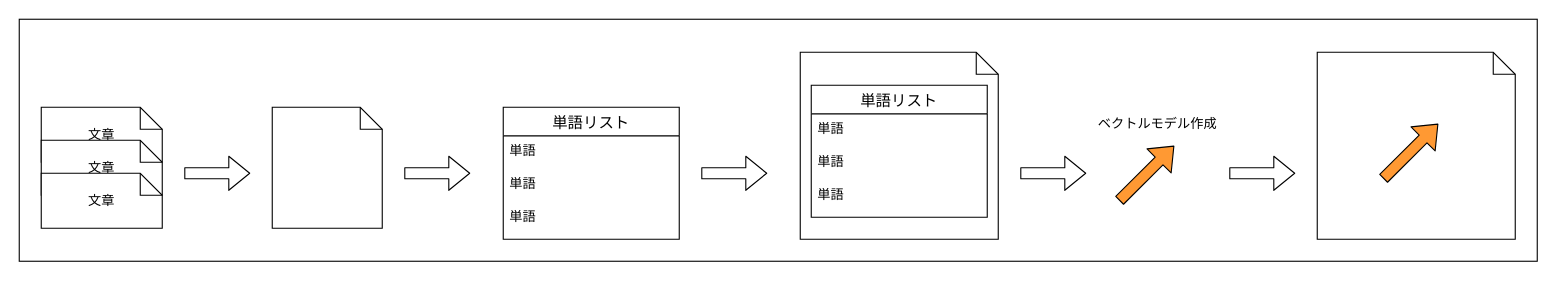
This 1557x281 diagram has some shape labels left out. The box of each missing label's shape, as (x1, y1, x2, y2) in pixels:
ひとつの文章: (271, 106, 382, 228)
テキストファイル: (799, 51, 998, 239)
モデルファイル: (1316, 51, 1515, 239)
